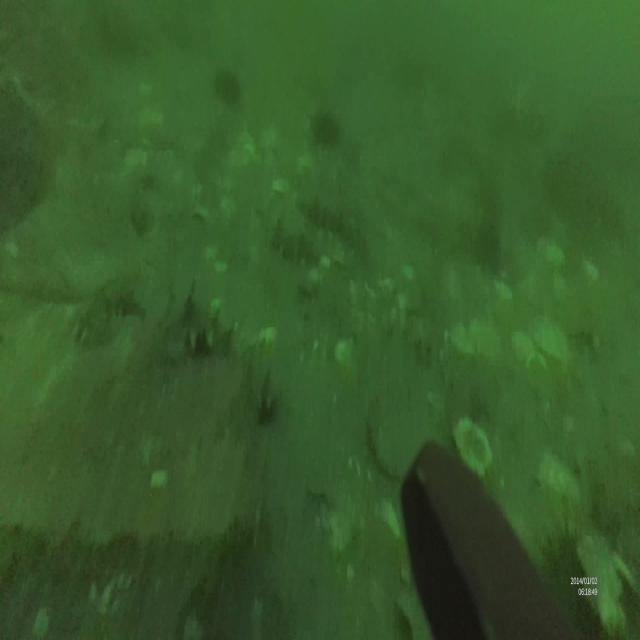echinus: (535, 516, 602, 609), (308, 104, 344, 148), (210, 64, 240, 103)
holothurian: (72, 277, 150, 341), (300, 195, 373, 258), (161, 306, 233, 361), (263, 221, 320, 266)
